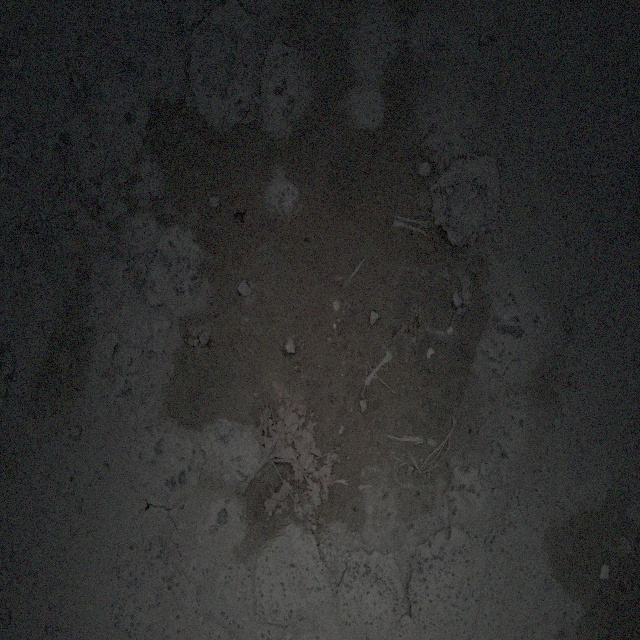pothole: (133, 61, 515, 584)
